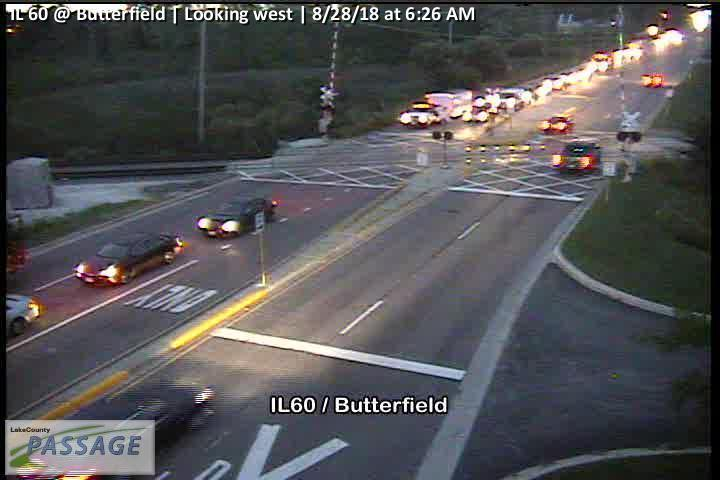Sedan: (71, 232, 184, 287), (195, 193, 279, 242), (558, 141, 603, 177)
